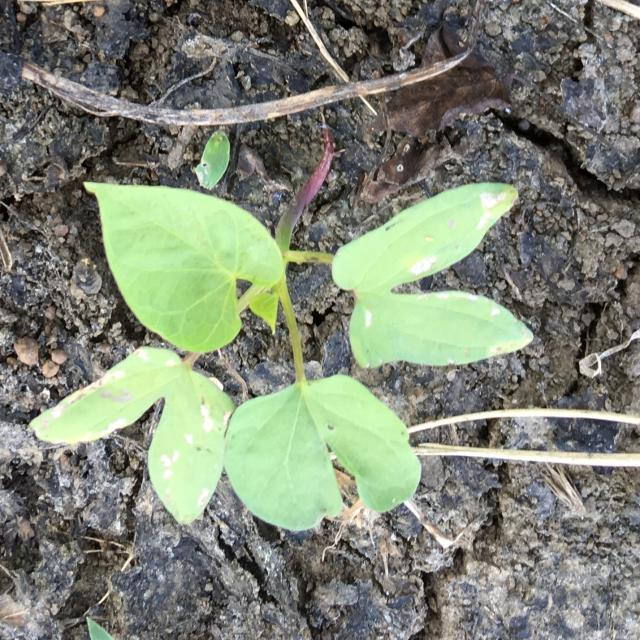MorningGlory: (28, 128, 534, 532)
